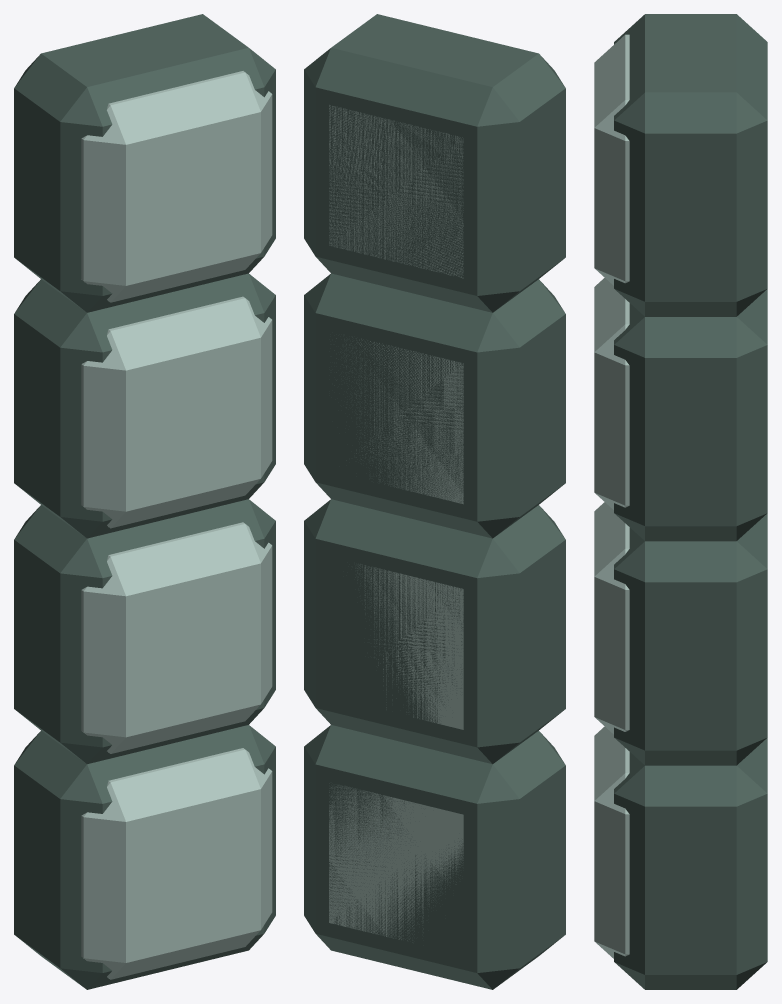
Rendered from Terrain_Block1x4.gltf.
The picture shows the model from 3 angles, left to right: view 1: azimuth 30°, elevation 25°; view 2: azimuth 150°, elevation 25°; view 3: azimuth 270°, elevation 25°; orthographic projection.
Visible parts, largest first — view 1: Terrain_Block1x4_baked; view 2: Terrain_Block1x4_baked; view 3: Terrain_Block1x4_baked.
Boxes of the visible parts, x1,y1,x2,y2 form: Terrain_Block1x4_baked: [14, 14, 275, 989]; Terrain_Block1x4_baked: [304, 14, 565, 989]; Terrain_Block1x4_baked: [594, 14, 767, 989].
Bounding box in the file's own units: 1 × 4 × 0.7.
